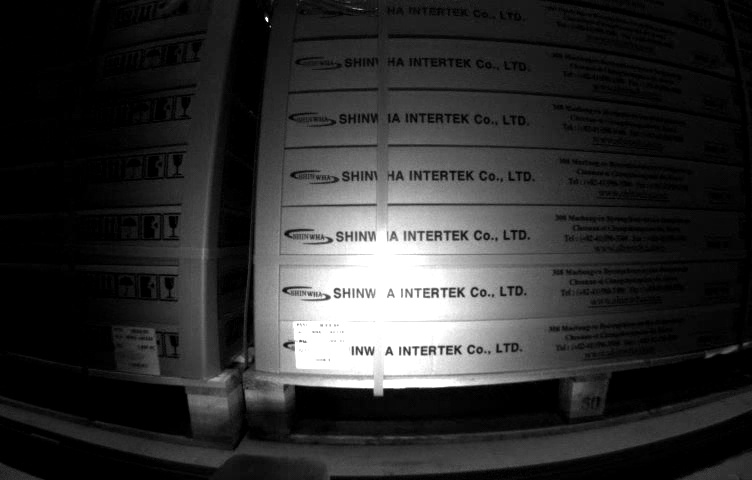True Barcode: (292, 320, 351, 369), (110, 325, 161, 375)
